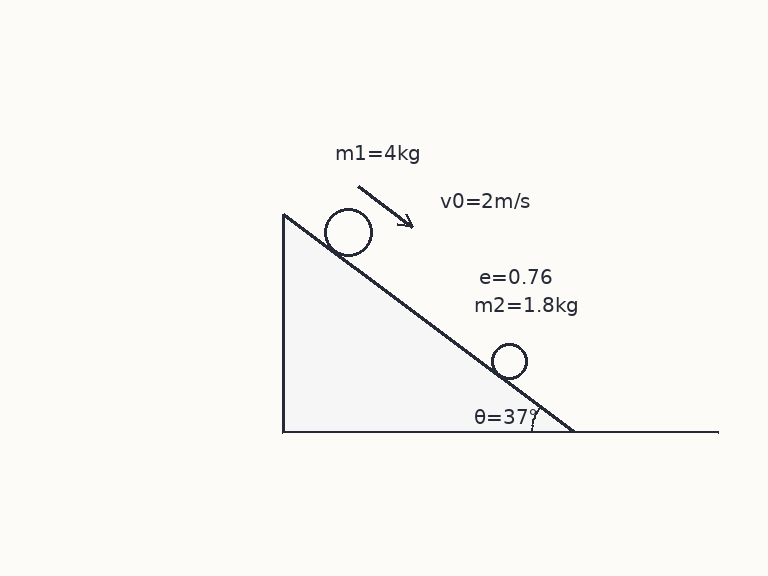ball: (322, 206, 373, 258), (489, 341, 529, 381)
ramp: (282, 212, 574, 433)
